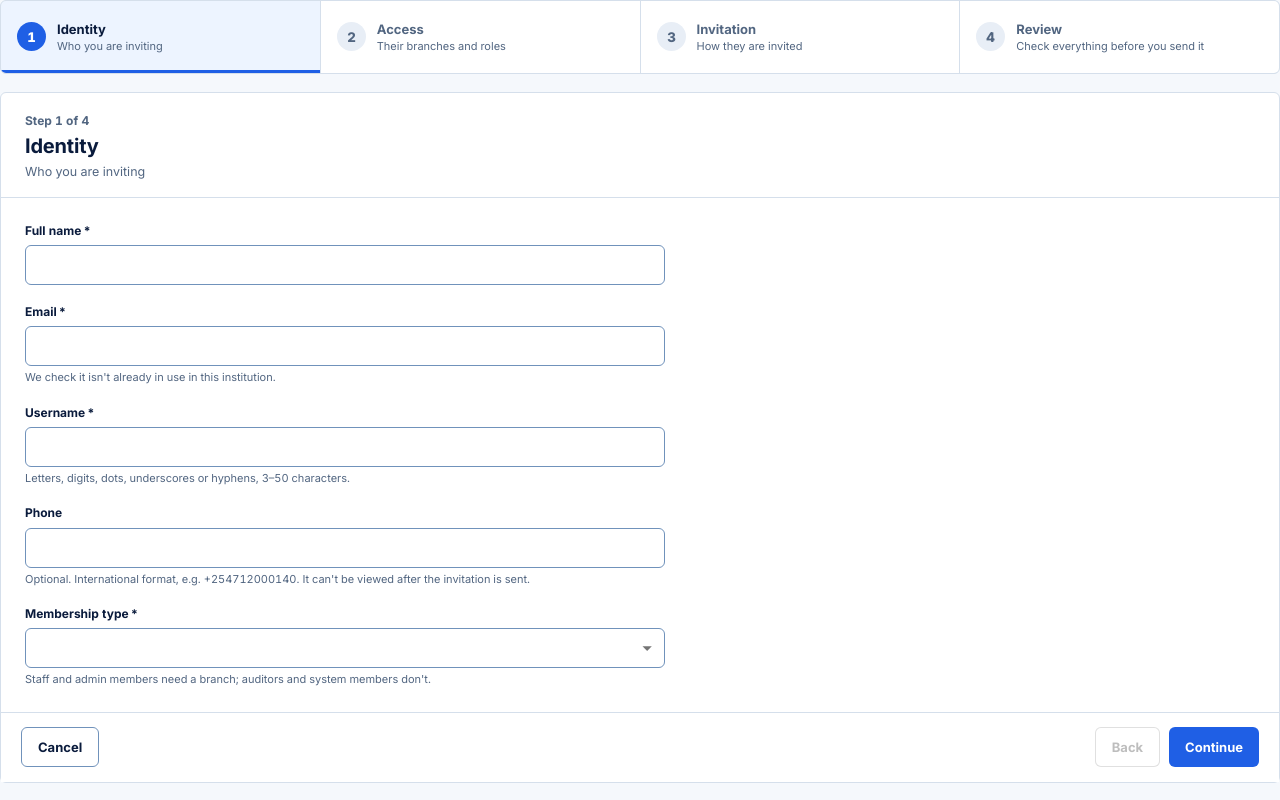
Test case: InviteUserWizard: the steps › drops an in-use answer about an email edited during its check
This screenshot has width=1280, height=800.
Type "Neema Wanjiku" into the field labelled "Full name" at (345, 265), box 25,245 -> 665,285
Type "neema.wanjiku@greenfield.example" into the field labelled "Email" at (345, 346), box 25,326 -> 665,366
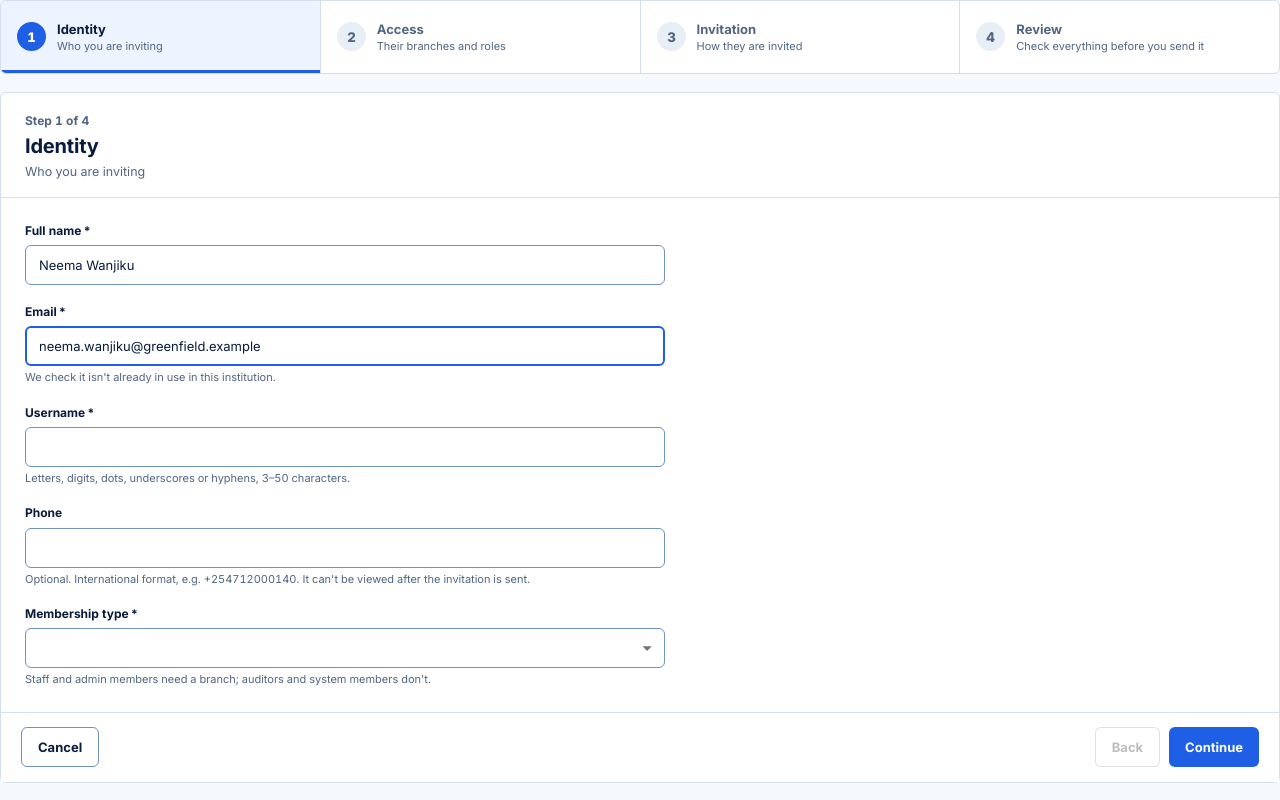
Type "neema.wanjiku" into the field labelled "Username" at (345, 447), box 25,427 -> 665,467
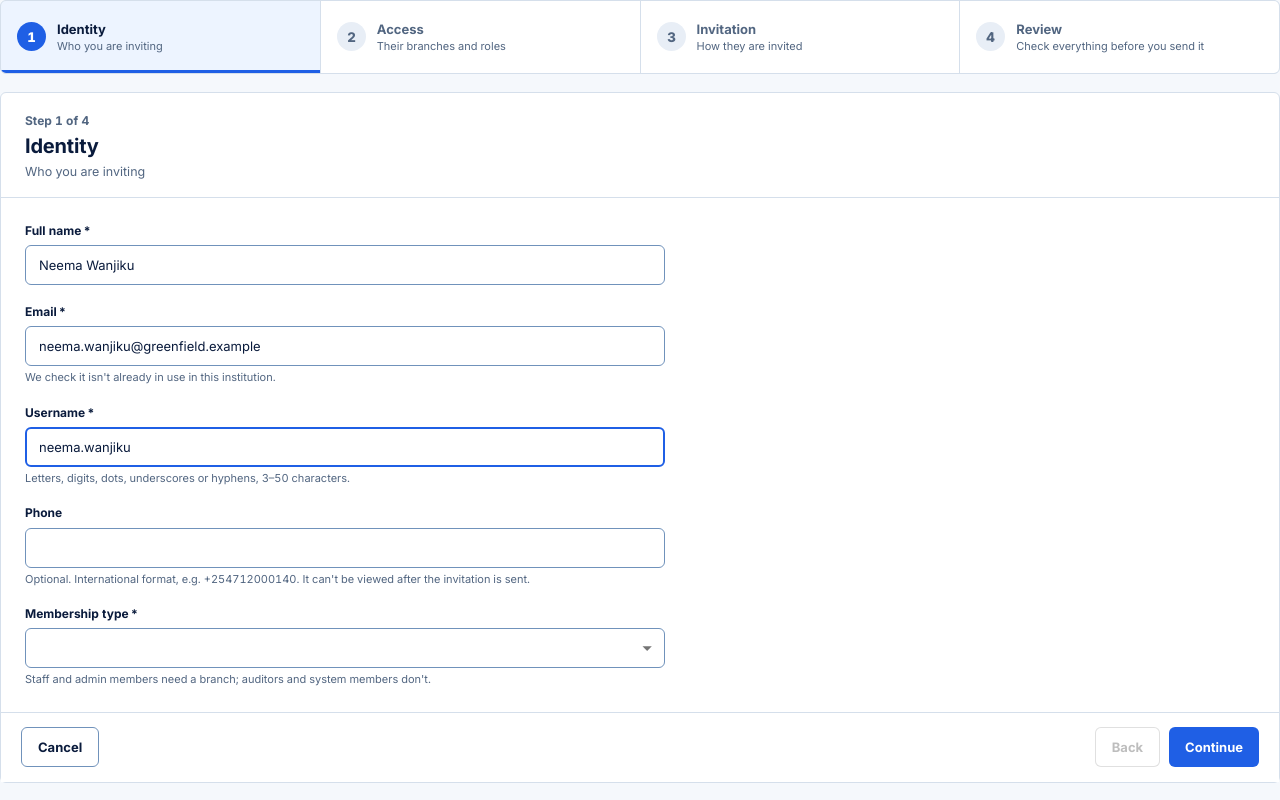
Click the dropdown named "Membership type" at (345, 648), box 25,628 -> 665,668
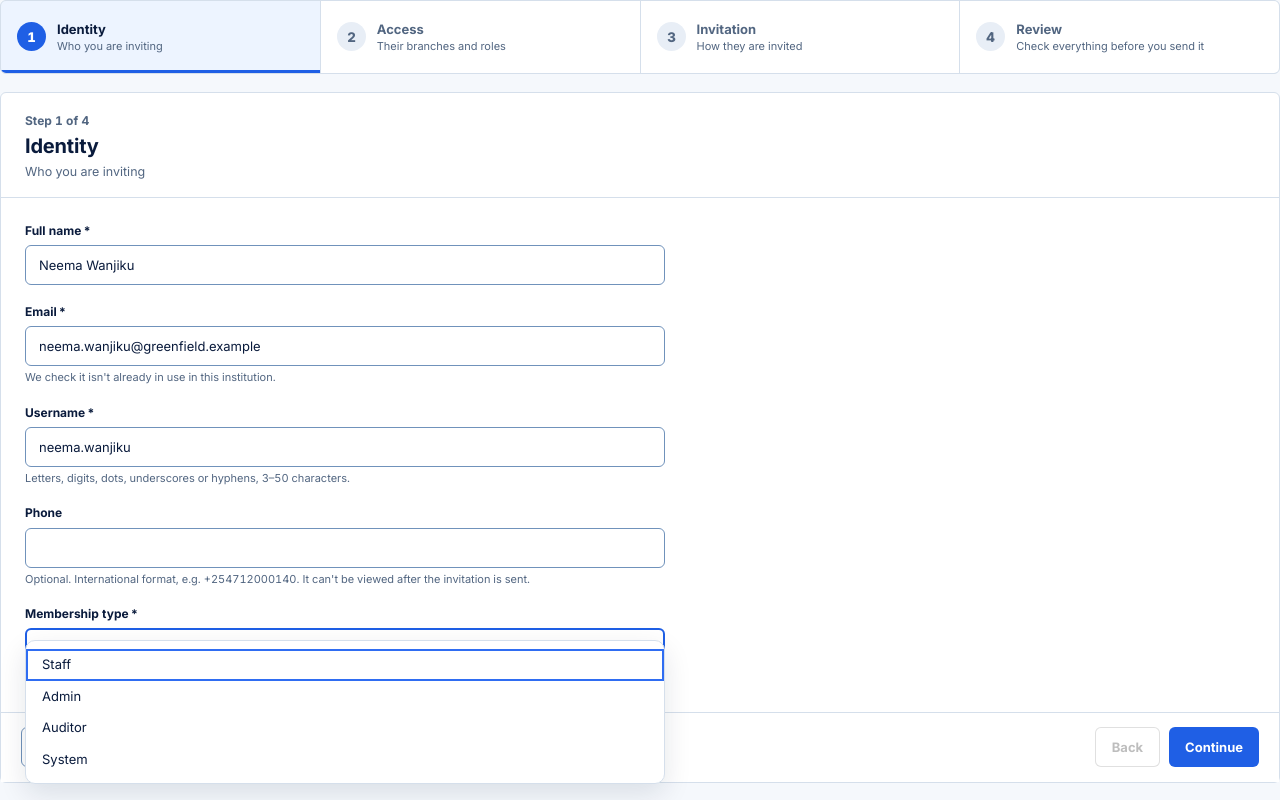
Click the option "Staff" at (57, 664), box 26,649 -> 664,680
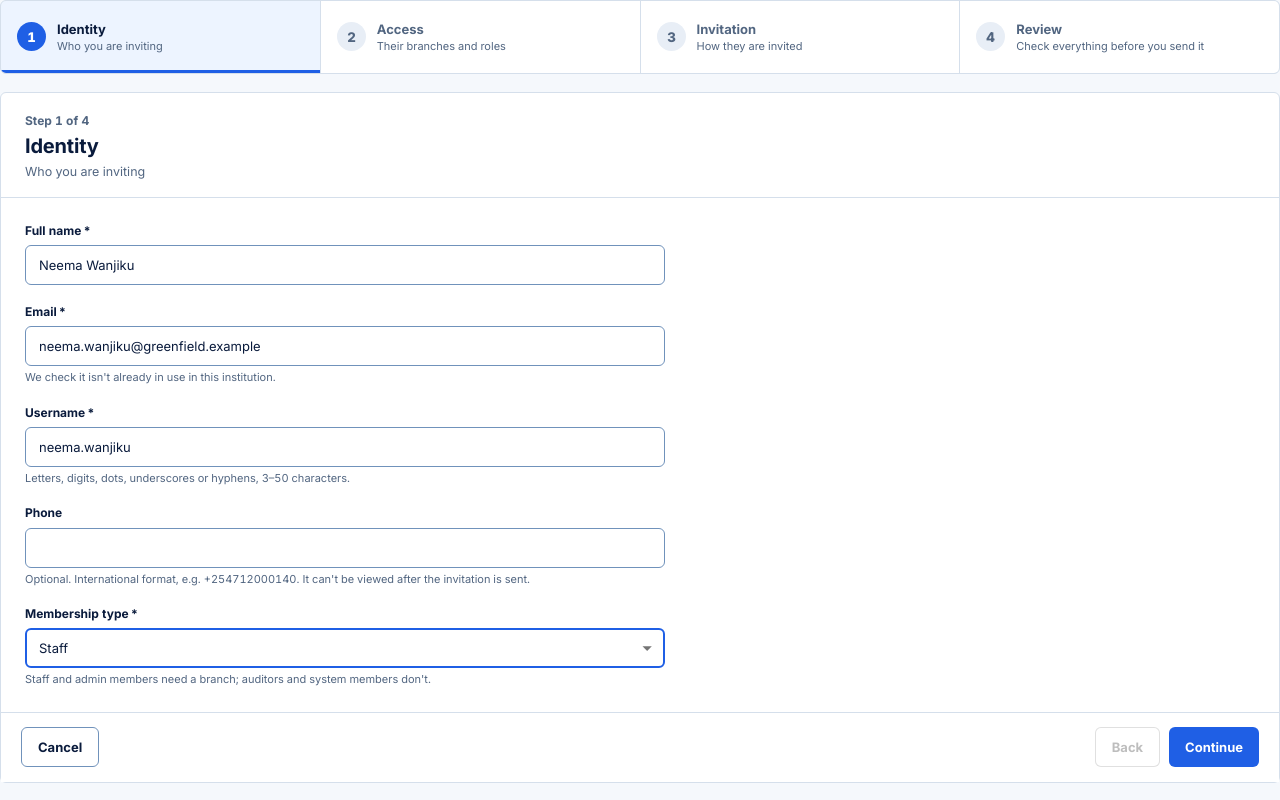
Click the button "Continue" at (1214, 747), box 1169,727 -> 1259,767
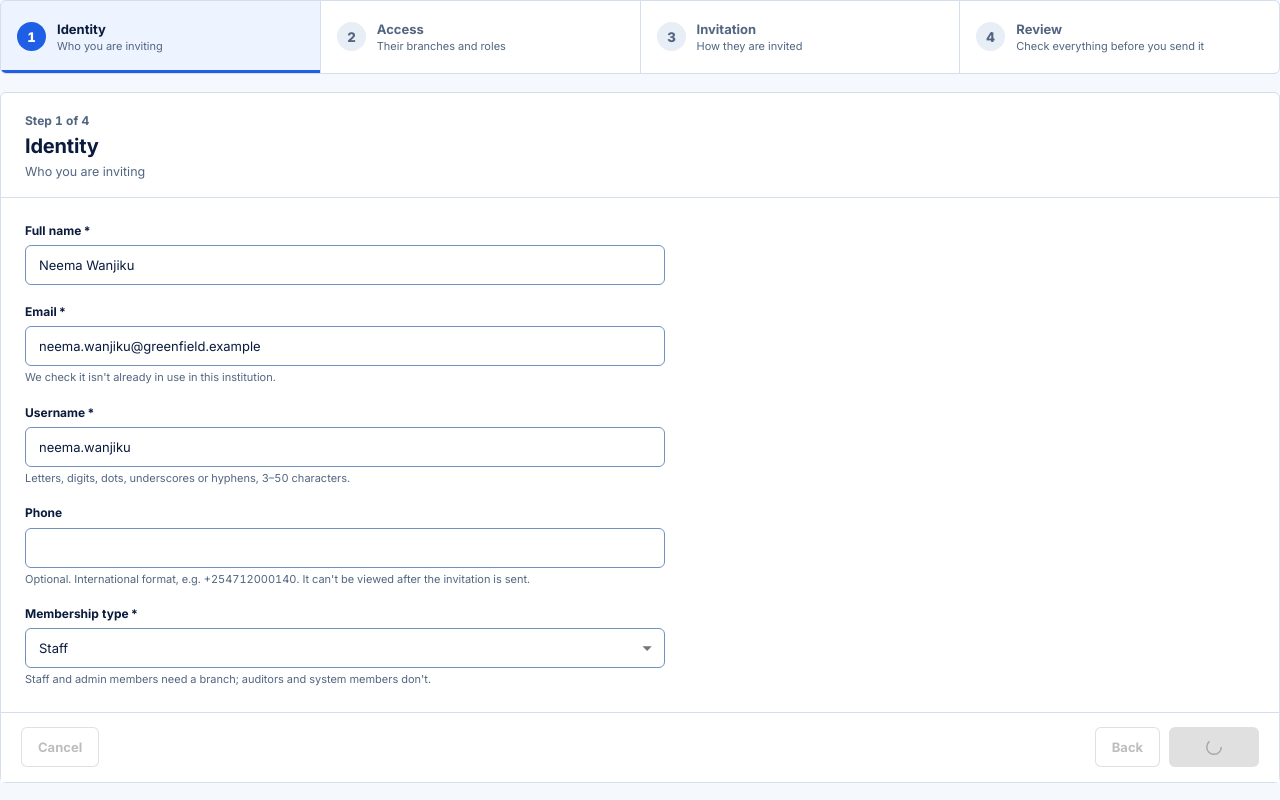
Type "x" into the field labelled "Email" at (345, 346), box 25,326 -> 665,366
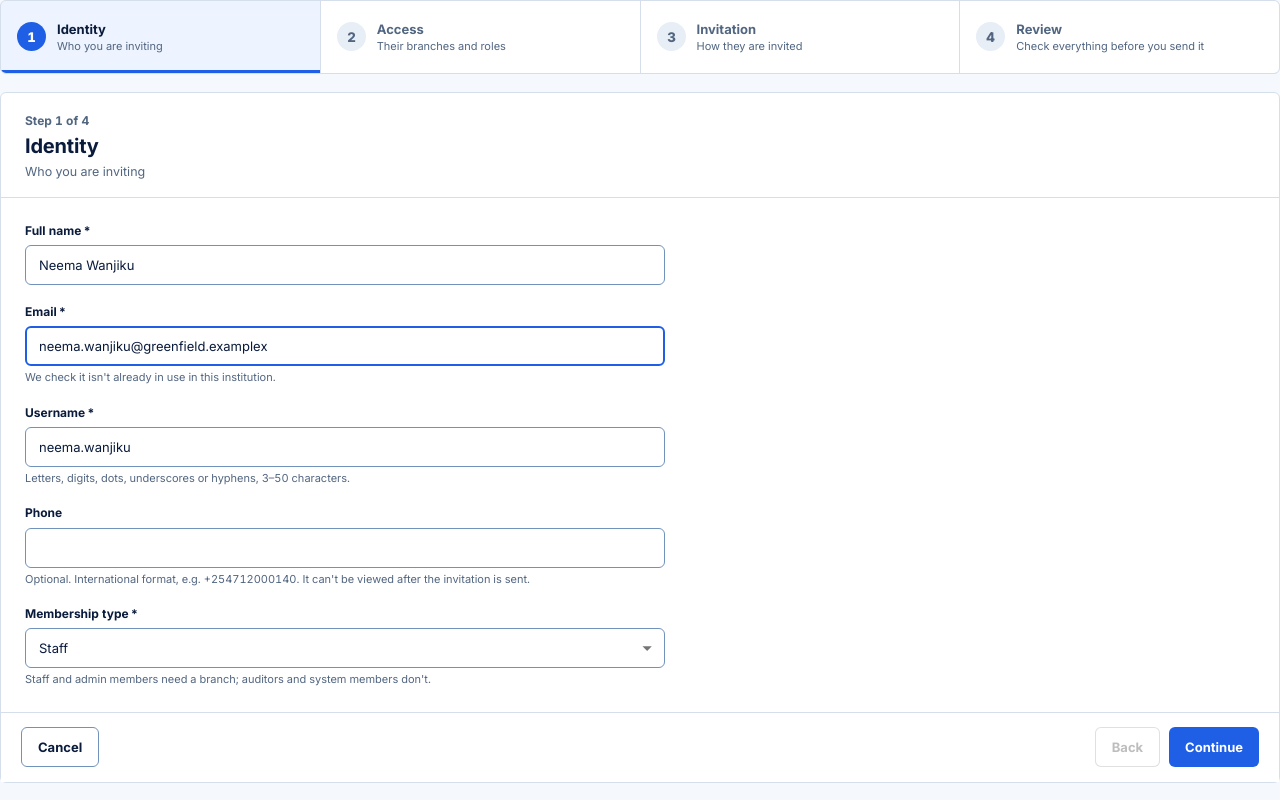
Now the button "Continue" is enabled, box 1169,727 -> 1259,767
